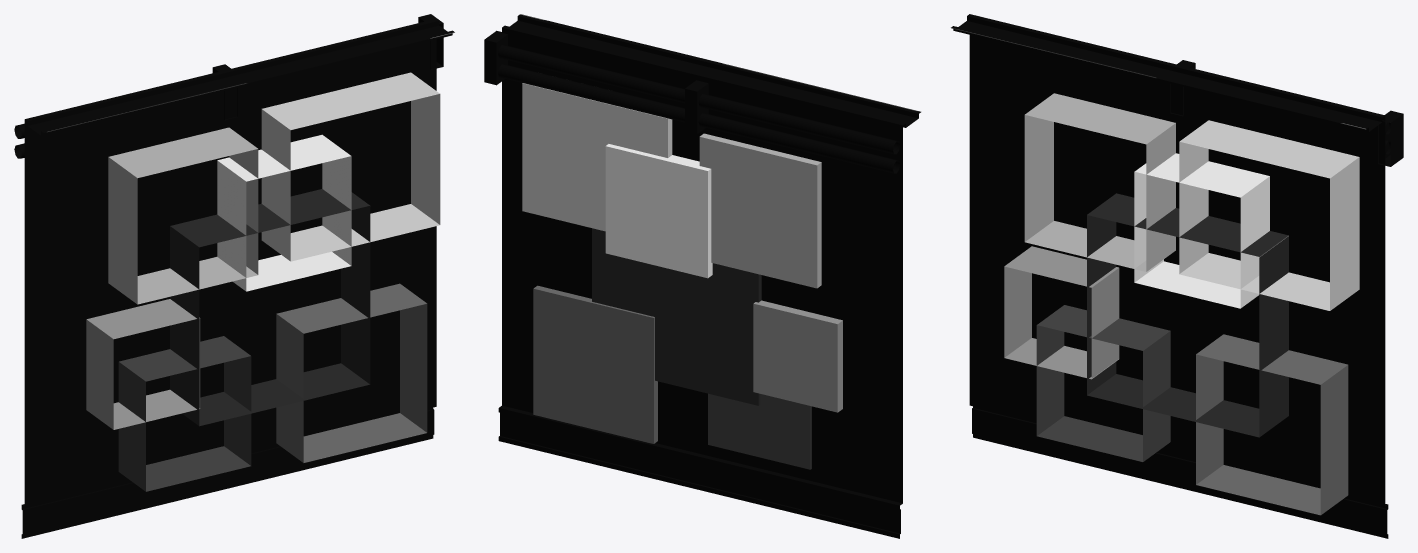
The model's file is PipedWall0D.fbx.
The picture shows the model from 3 angles, left to right: view 1: azimuth 30°, elevation 25°; view 2: azimuth 150°, elevation 25°; view 3: azimuth 330°, elevation 25°; orthographic projection. The views are drawn at different scales.
Parts seen in each view (by area): view 1: FlatWallPipes; view 2: FlatWallPipes; view 3: FlatWallPipes.
Boxes of the visible parts, x1,y1,x2,y2 form: FlatWallPipes: (14,14,454,538); FlatWallPipes: (484,14,920,538); FlatWallPipes: (951,14,1403,538).
Size of the model in its own units: 406 by 392 by 68.95.
